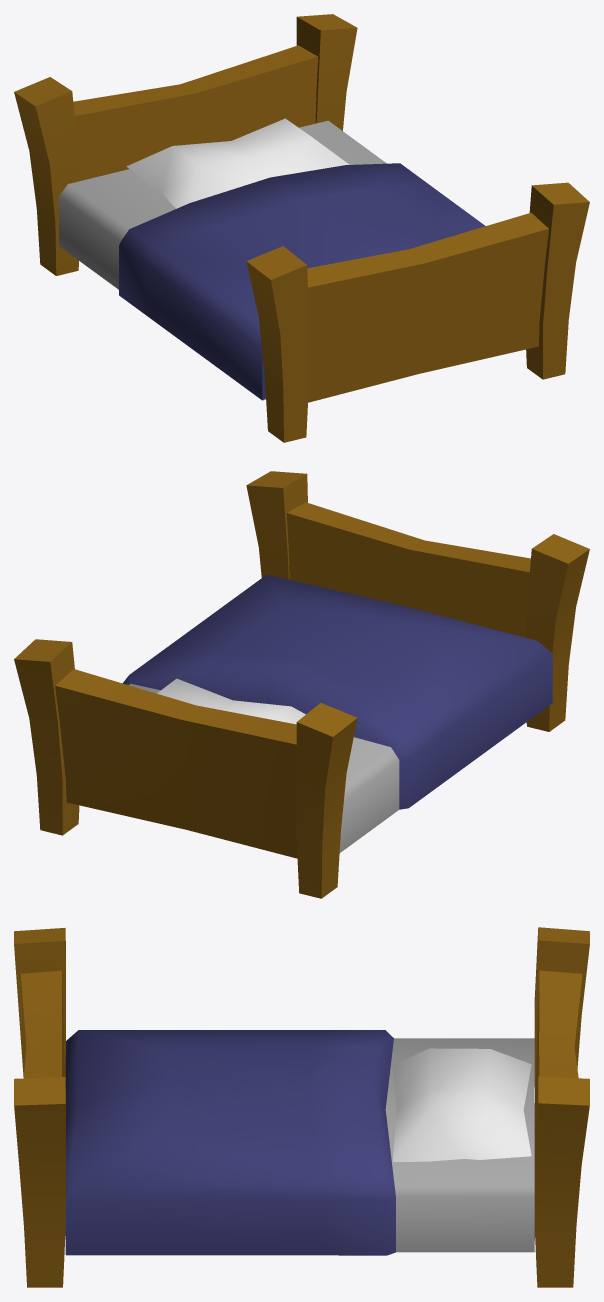
File: bed.gltf
3 renders of one model, top to bottom at view 1: azimuth 30°, elevation 25°; view 2: azimuth 150°, elevation 25°; view 3: azimuth 270°, elevation 25°, orthographic. The views are drawn at different scales.
Parts seen in each view (by area): view 1: Bed; view 2: Bed; view 3: Bed.
Boxes of the visible parts, box(x1,y1,x2,y2) form: Bed: box(14, 14, 589, 442); Bed: box(14, 471, 589, 898); Bed: box(14, 927, 589, 1287).
Size of the model in its own units: 2.34 by 1.25 by 3.23.
